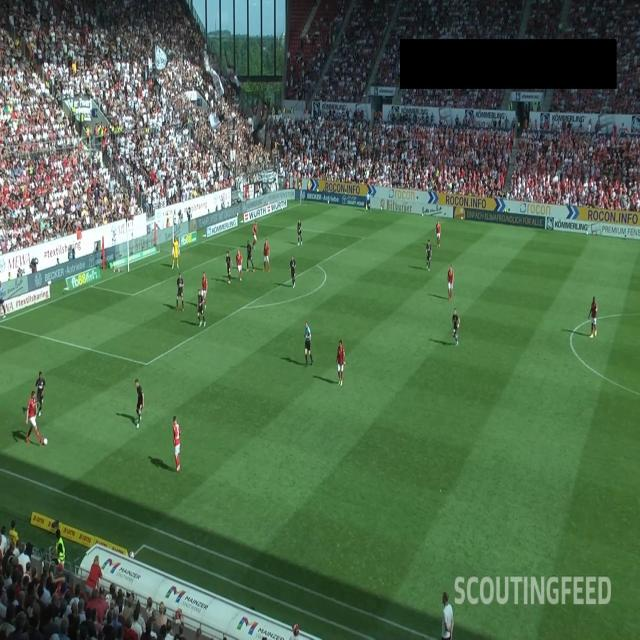ball: (44, 438, 48, 446)
